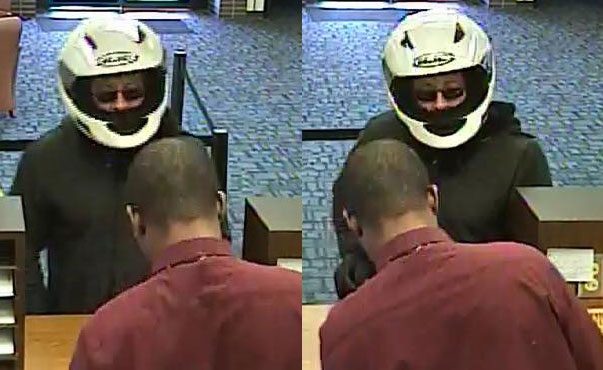helmet: (40, 4, 191, 150), (374, 3, 498, 150)
